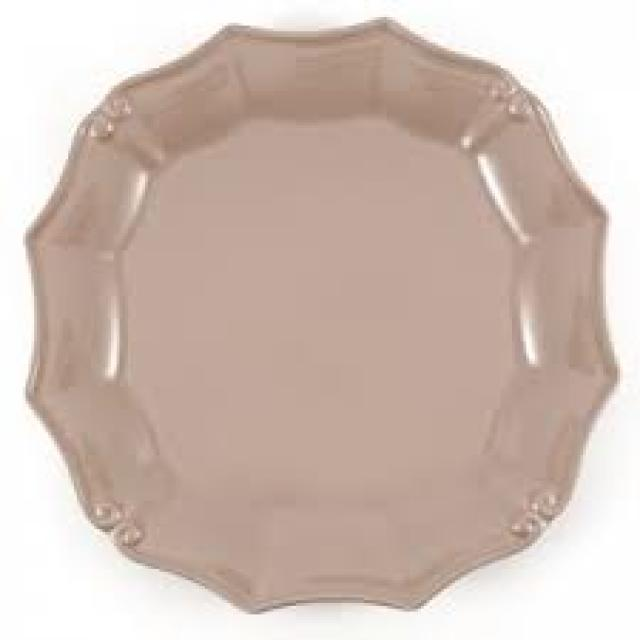glass: (23, 14, 614, 609)
